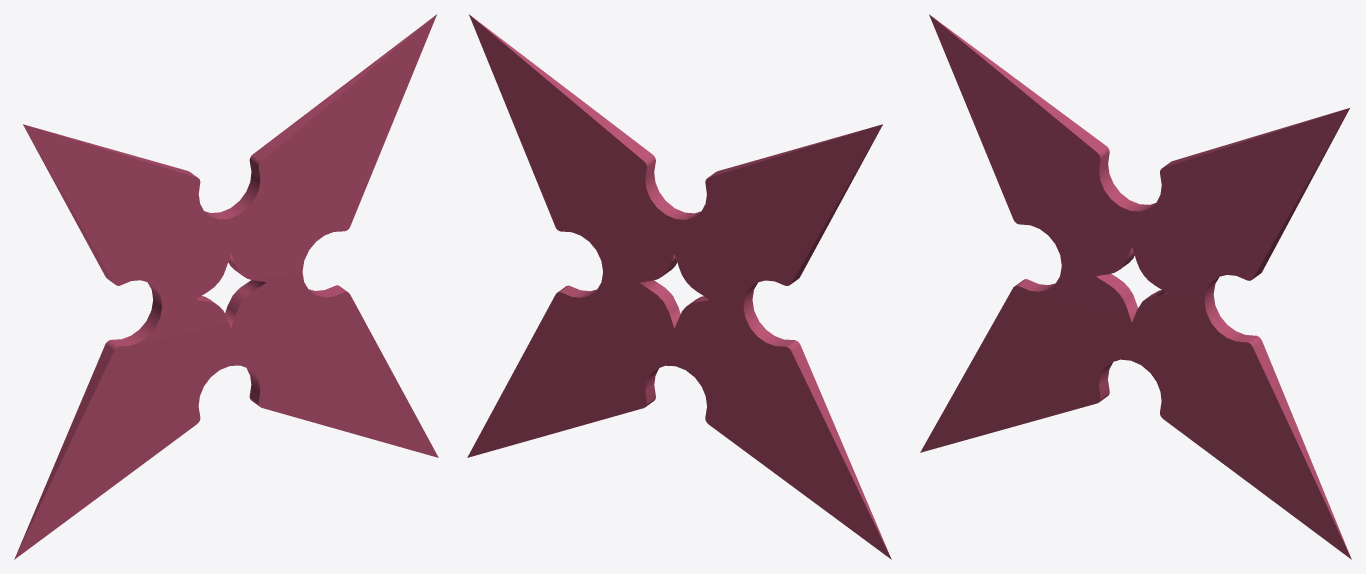
Rendered from xurikixa.glb.
3 renders of one model, left to right at view 1: azimuth 30°, elevation 25°; view 2: azimuth 150°, elevation 25°; view 3: azimuth 330°, elevation 25°, orthographic.
Visible parts, largest first — view 1: Curve.001; view 2: Curve.001; view 3: Curve.001.
Boxes of the visible parts, x1,y1,x2,y2 form: Curve.001: (14, 14, 438, 559); Curve.001: (467, 14, 891, 559); Curve.001: (920, 14, 1351, 559).
Size of the model in its own units: 1.93 by 1.93 by 0.0706.
